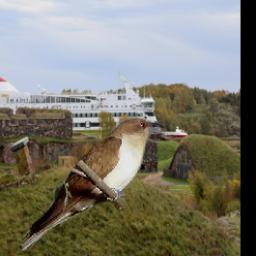Cuckoo: (22, 115, 165, 251)
